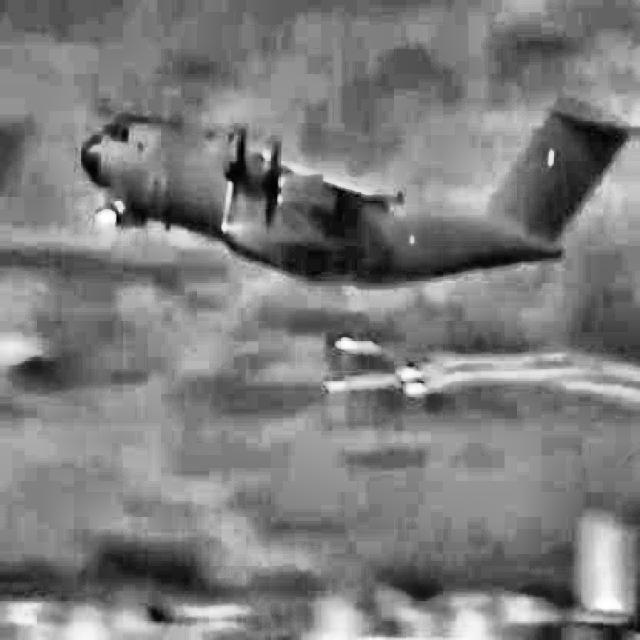A400M: (80, 94, 640, 289)
